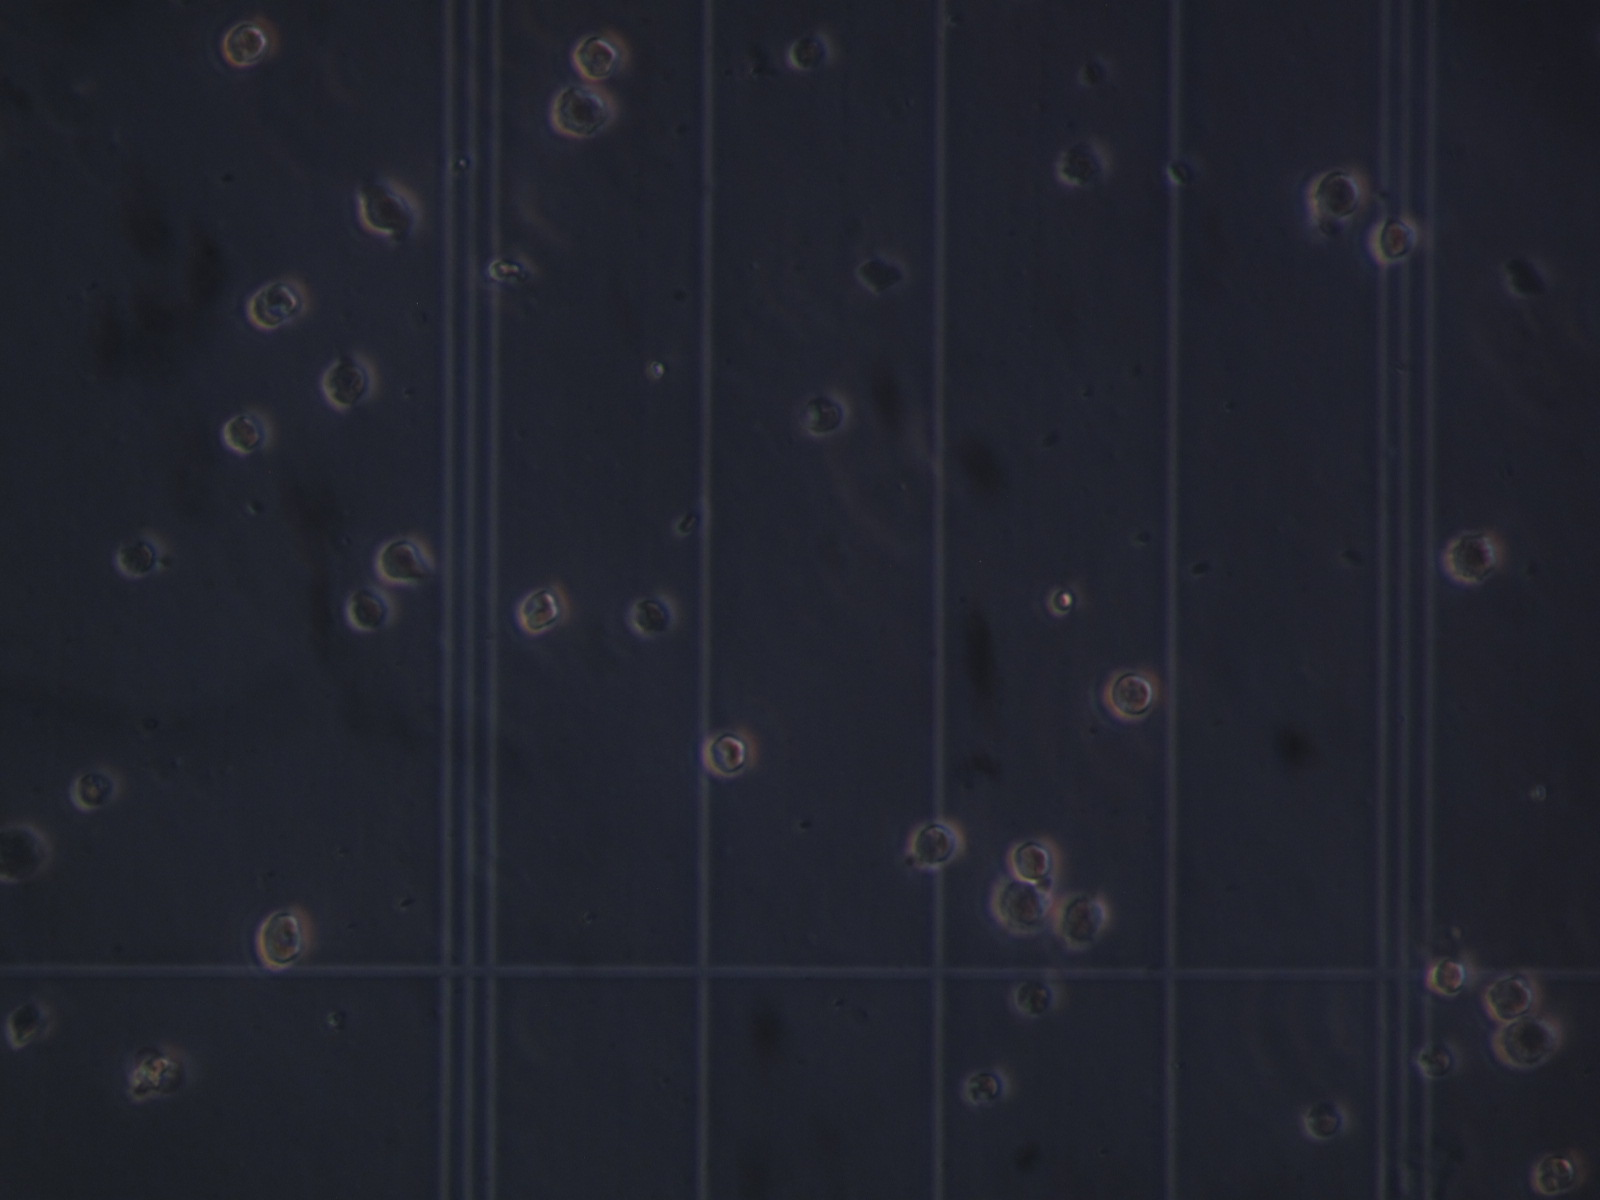hemo: (1490, 1013, 1562, 1071), (990, 875, 1058, 935), (256, 903, 314, 972), (551, 82, 617, 140), (319, 349, 377, 413), (1101, 664, 1160, 726), (220, 10, 281, 69), (244, 276, 309, 332), (1, 818, 54, 885), (1053, 891, 1111, 952), (515, 577, 572, 639), (571, 26, 632, 82), (1445, 529, 1504, 585), (1484, 967, 1545, 1021), (905, 817, 964, 871), (357, 184, 420, 234), (700, 724, 758, 778), (375, 533, 435, 586), (1054, 137, 1111, 189), (1306, 166, 1361, 219), (69, 763, 126, 813), (1007, 832, 1061, 884), (115, 528, 165, 582), (797, 389, 850, 439), (1366, 214, 1419, 263), (1532, 1148, 1587, 1195), (625, 592, 678, 640), (345, 584, 396, 632), (220, 411, 275, 455), (1010, 974, 1065, 1018), (959, 1066, 1010, 1111), (786, 30, 831, 76), (1425, 954, 1468, 997), (1304, 1099, 1347, 1141), (1421, 1041, 1460, 1078)
